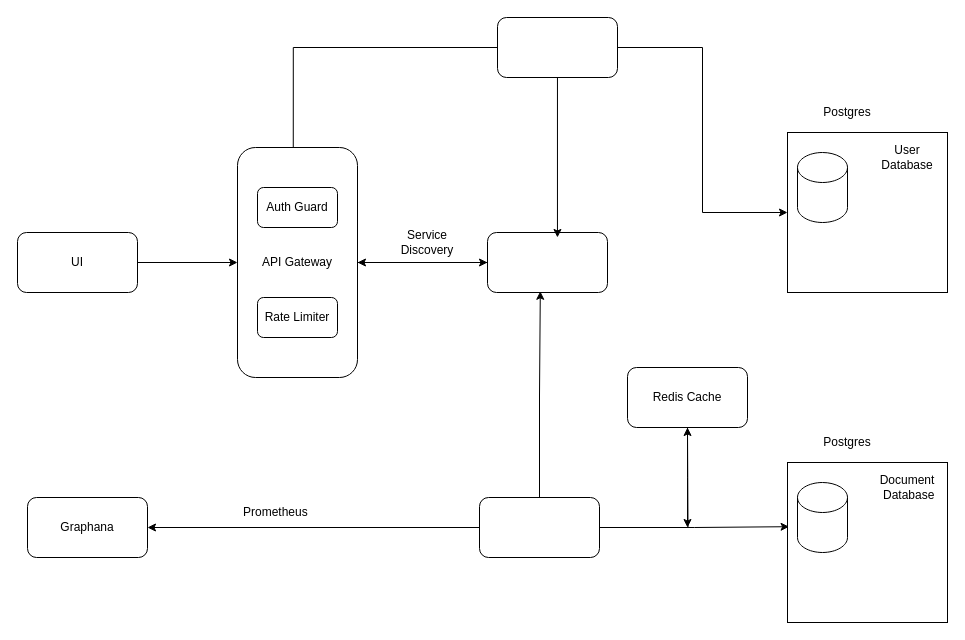
Image size: 965x640. Some labels were removed from this diagram. Each missing label, with the box of its shape:
Auth Service: (496, 16, 618, 78)
Consul: (486, 232, 608, 292)
Document Service: (478, 496, 600, 558)
